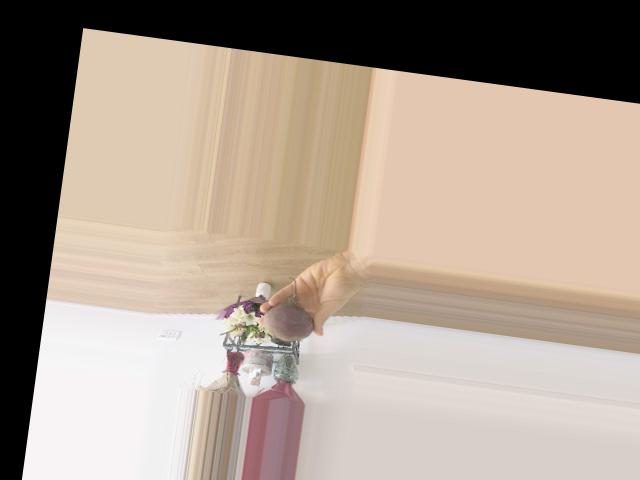beet: (259, 274, 319, 349)
